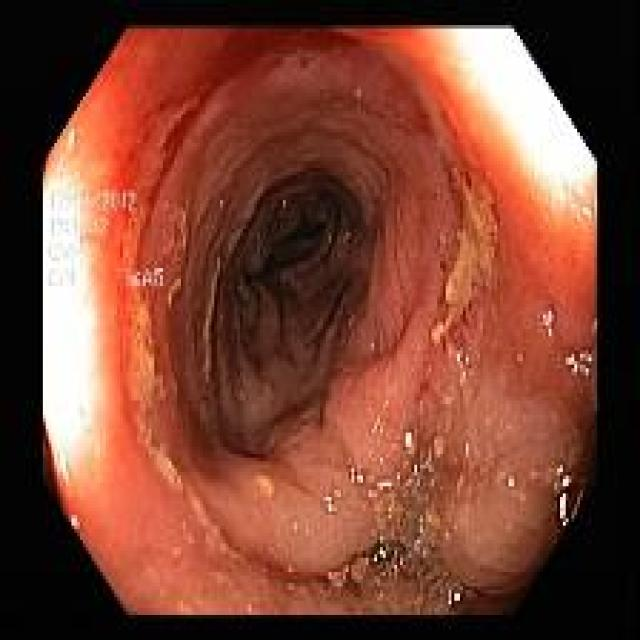ulcerative-colitis: (44, 28, 596, 614)
